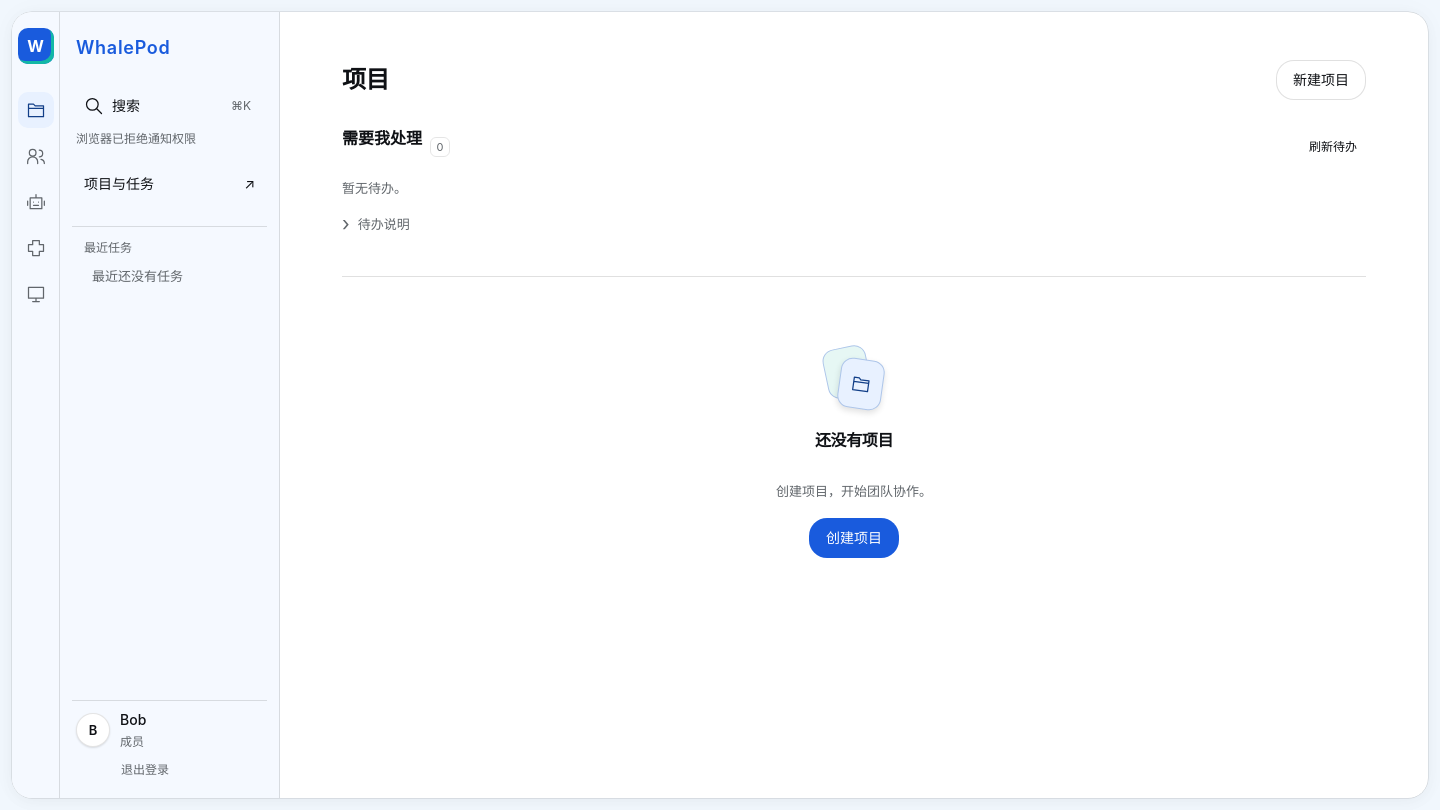
Scenario: ⌘K 全局搜索（#254） › 无结果如实说；空关键词不查（没有输入就没有请求）
Click the button "搜索 ⌘K" at (170, 106), box x1=72 y1=86 x2=267 y2=126
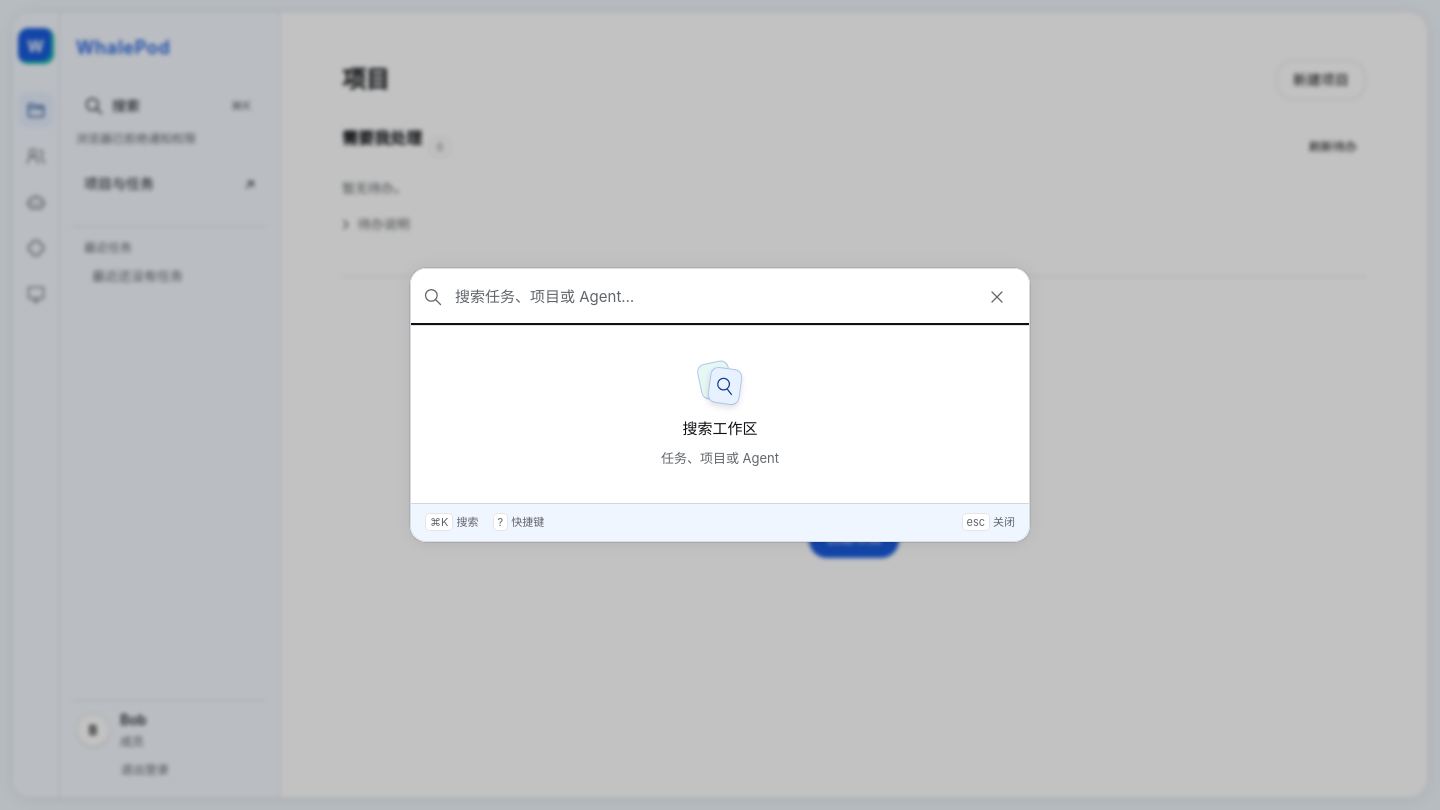
# 空关键词：没有搜索请求。
Type "不存在的词" into the field named "搜索关键词" at (710, 297), box x1=455 y1=277 x2=965 y2=317
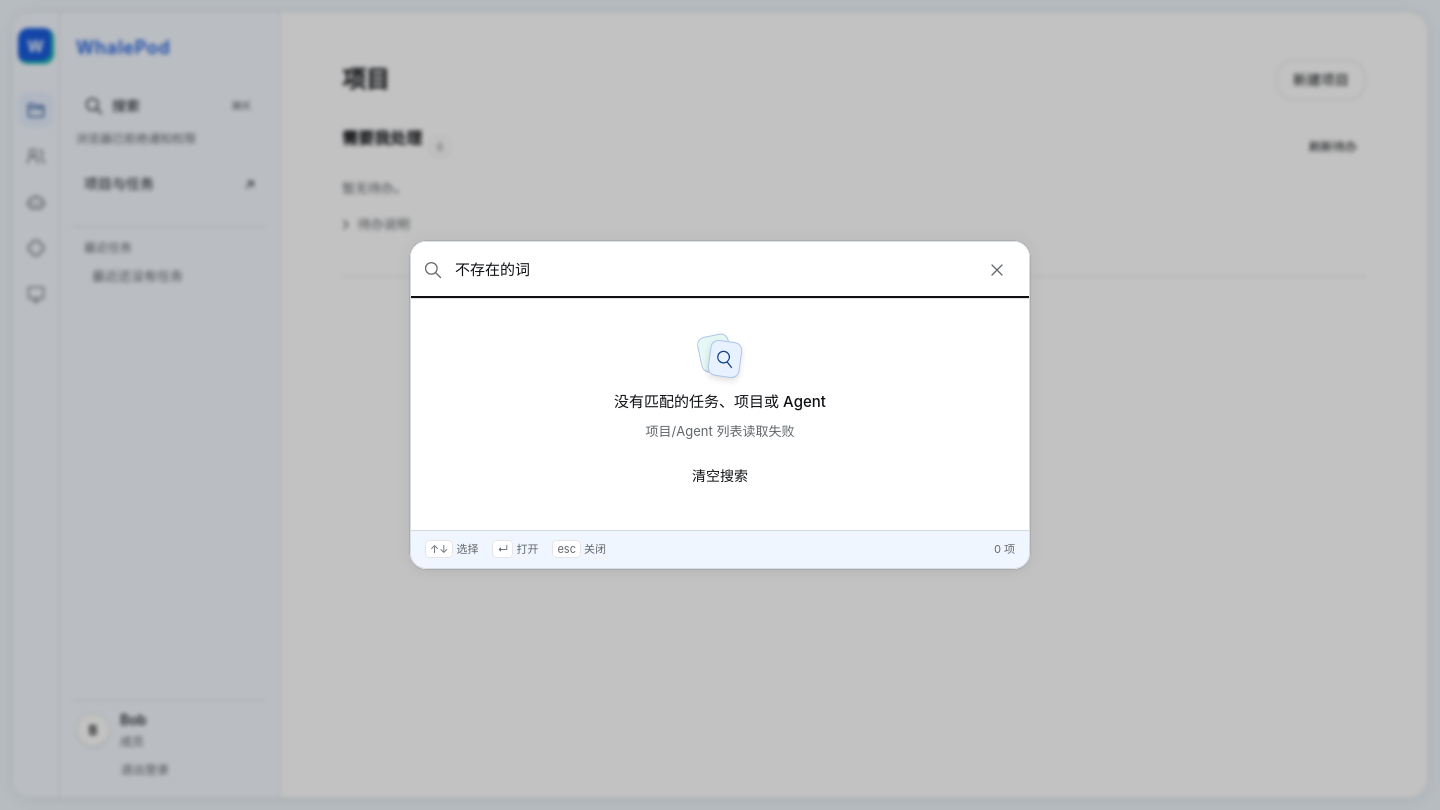
Expected: the heading "没有匹配的任务、项目或 Agent" is shown, x1=614 y1=391 x2=826 y2=412
